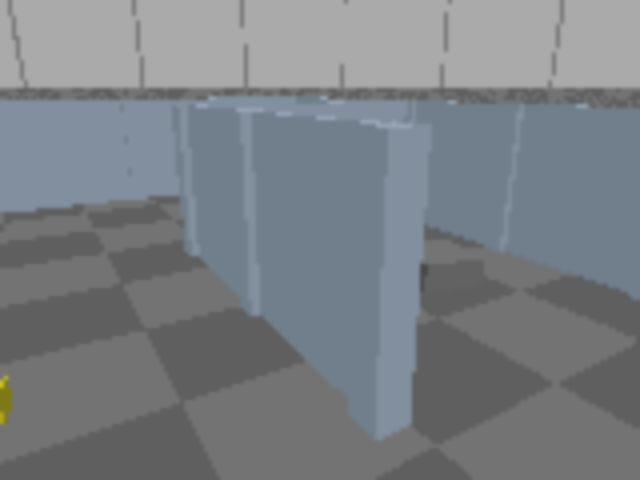puck: (0, 377, 14, 432)
